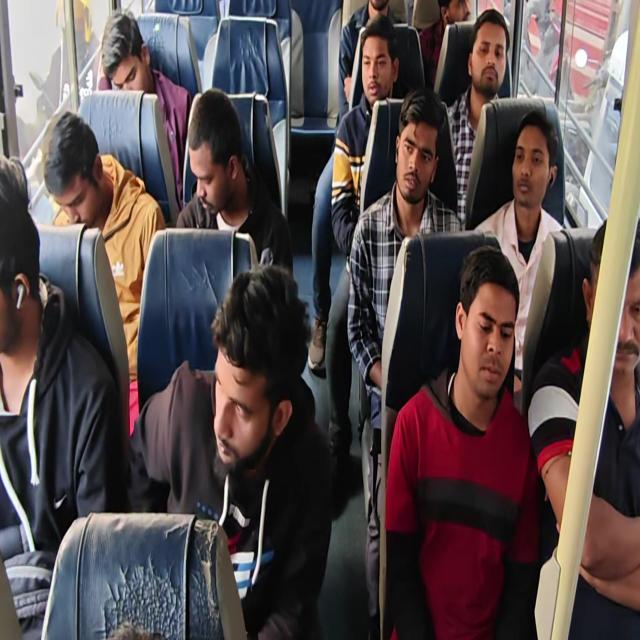person: (217, 265, 297, 478), (0, 153, 51, 365), (586, 212, 640, 382), (454, 262, 518, 404), (183, 102, 244, 215), (49, 115, 112, 224), (387, 104, 437, 212), (101, 12, 156, 102), (511, 116, 558, 218), (467, 24, 519, 102), (359, 40, 394, 101), (357, 0, 401, 37), (434, 0, 479, 35)
